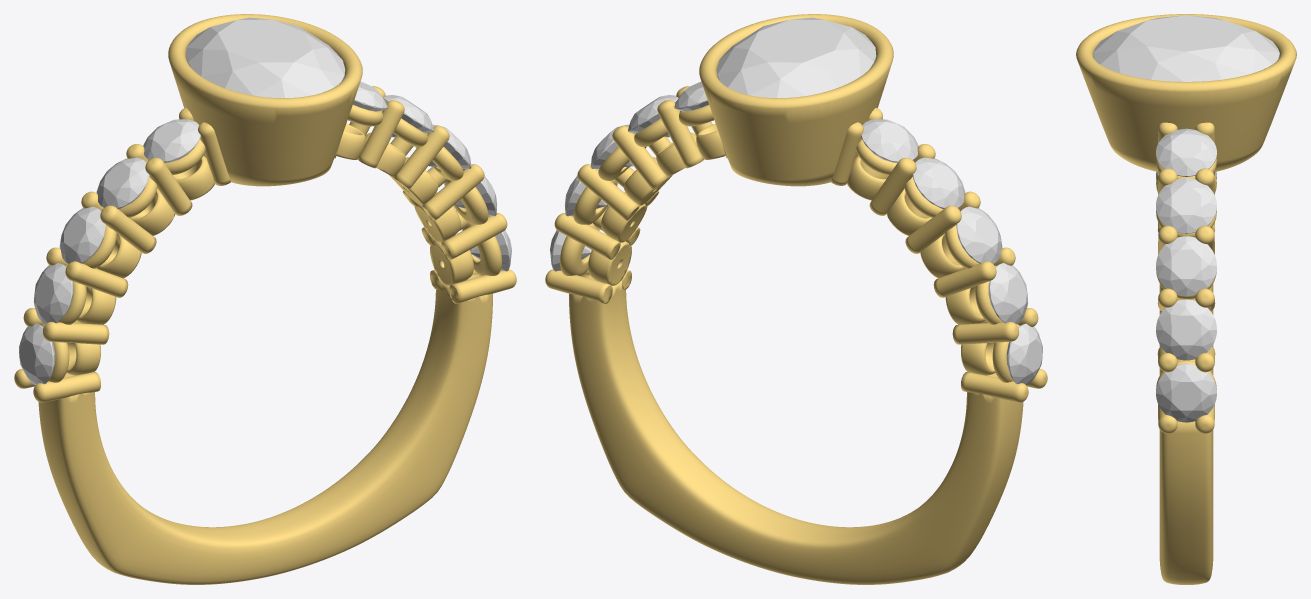
Rendered from diamond-oval-yellowgold-bezelset-europeanshank-11stone.glb.
3 renders of one model, left to right at view 1: azimuth 30°, elevation 25°; view 2: azimuth 150°, elevation 25°; view 3: azimuth 270°, elevation 25°, orthographic. The views are drawn at different scales.
Parts seen in each view (by area): view 1: metal, stone.002, side.022, side.023, side.021, side.024, side.020, side.028, side.029; view 2: metal, stone.002, side.022, side.023, side.021, side.024, side.020, side.028, side.029; view 3: metal, stone.002, side.026, side.027, side.025, side.028, side.029.
Part boxes in pixels (<box>): metal: <box>14,14,516,584</box>; stone.002: <box>185,17,345,98</box>; side.022: <box>59,206,105,263</box>; side.023: <box>96,157,149,208</box>; side.021: <box>34,263,73,324</box>; side.024: <box>143,119,200,162</box>; side.020: <box>19,323,55,385</box>; side.028: <box>383,95,433,137</box>; side.029: <box>348,81,387,120</box>; metal: <box>545,14,1047,584</box>; stone.002: <box>716,17,876,98</box>; side.022: <box>956,206,1002,263</box>; side.023: <box>912,157,965,208</box>; side.021: <box>988,263,1027,324</box>; side.024: <box>861,119,918,162</box>; side.020: <box>1006,323,1042,385</box>; side.028: <box>628,95,678,137</box>; side.029: <box>674,81,713,120</box>; metal: <box>1076,14,1296,584</box>; stone.002: <box>1093,15,1279,81</box>; side.026: <box>1156,299,1216,360</box>; side.027: <box>1156,236,1216,296</box>; side.025: <box>1156,363,1216,422</box>; side.028: <box>1156,178,1216,233</box>; side.029: <box>1156,128,1216,176</box>.
Bounding box in the file's own units: 22.05 × 23.21 × 9.04.
